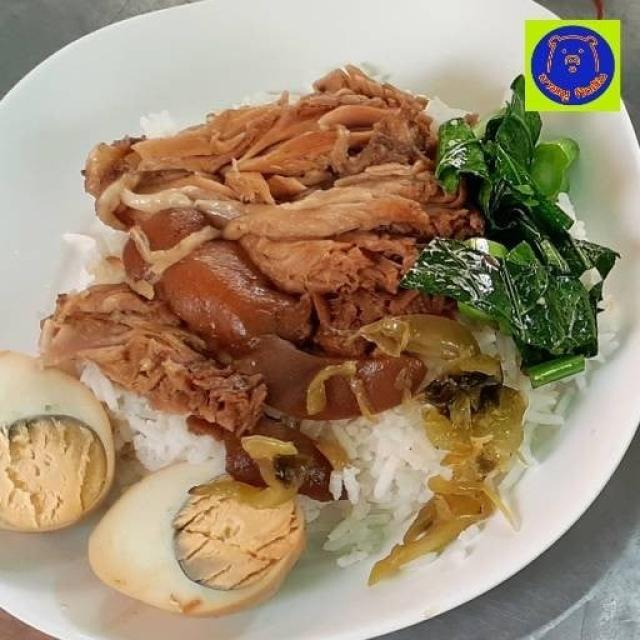carb: (350, 416, 446, 542)
meat: (122, 60, 445, 418)
stewed pork leg on rice: (19, 97, 640, 563)
vegetable: (429, 110, 615, 378)
